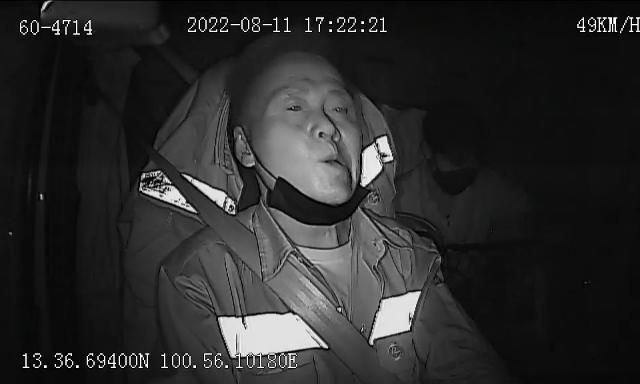SafeDriving: (280, 92, 312, 121)
Seatbelt: (142, 136, 408, 384)
